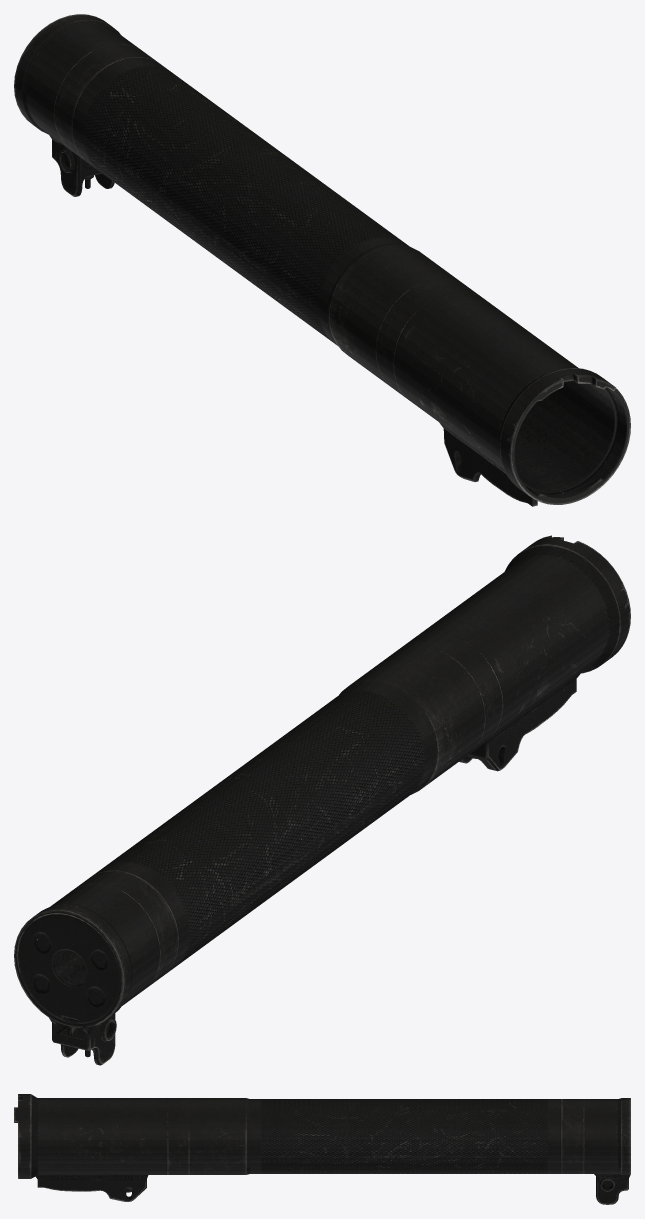
3 views of the same model, one above another, from view 1: azimuth 30°, elevation 25°; view 2: azimuth 150°, elevation 25°; view 3: azimuth 270°, elevation 25° (orthographic). The views are drawn at different scales.
Visible parts, largest first — view 1: TW_57c44dd02459772d2e0ae249_PZ_Import; view 2: TW_57c44dd02459772d2e0ae249_PZ_Import; view 3: TW_57c44dd02459772d2e0ae249_PZ_Import.
Boxes of the visible parts, x1,y1,x2,y2 form: TW_57c44dd02459772d2e0ae249_PZ_Import: (14, 14, 630, 506); TW_57c44dd02459772d2e0ae249_PZ_Import: (14, 535, 630, 1065); TW_57c44dd02459772d2e0ae249_PZ_Import: (14, 1094, 630, 1204).
Size of the model in its own units: 0.0254 by 0.1849 by 0.0336.
Materials: 1 (1 with a texture image).
